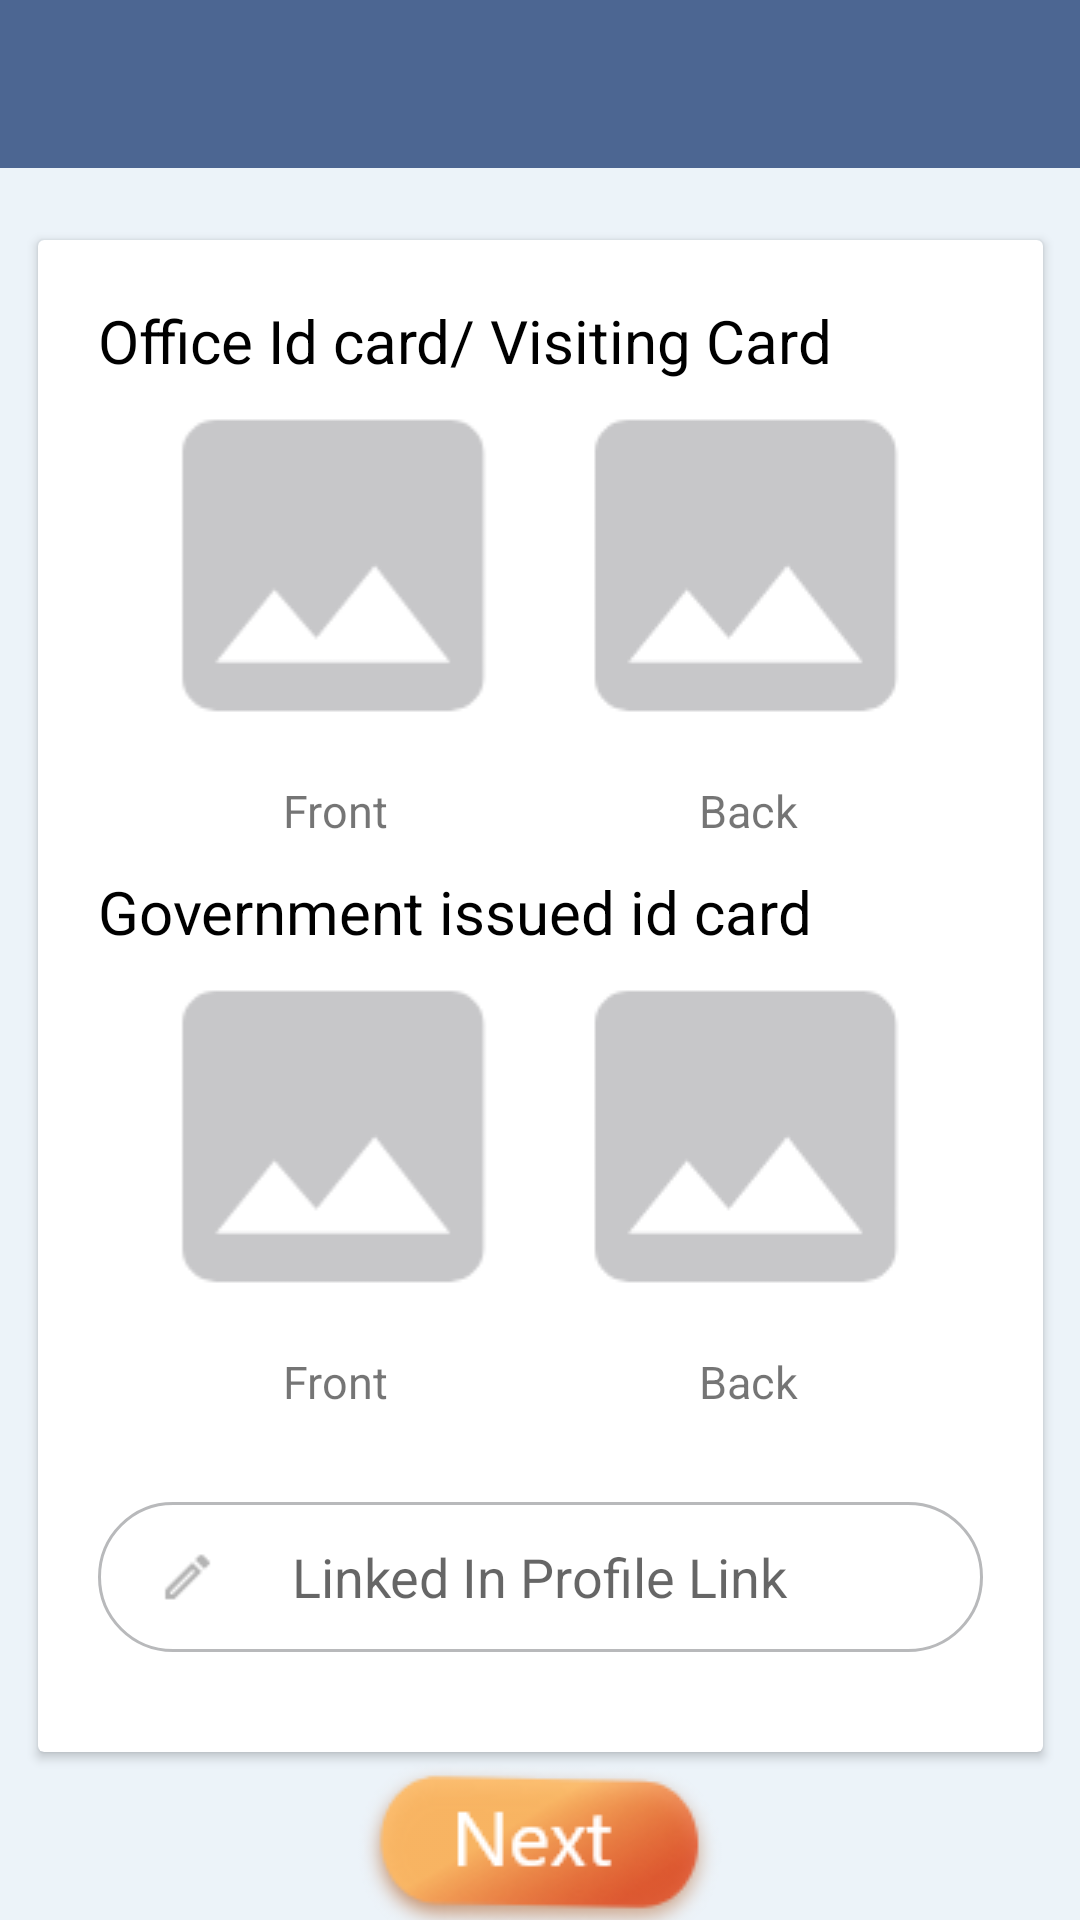

Icon click points for this 1080 × 1920 phone screenshot, format (x=x, y=y):
pencil: (x=187, y=1577)
